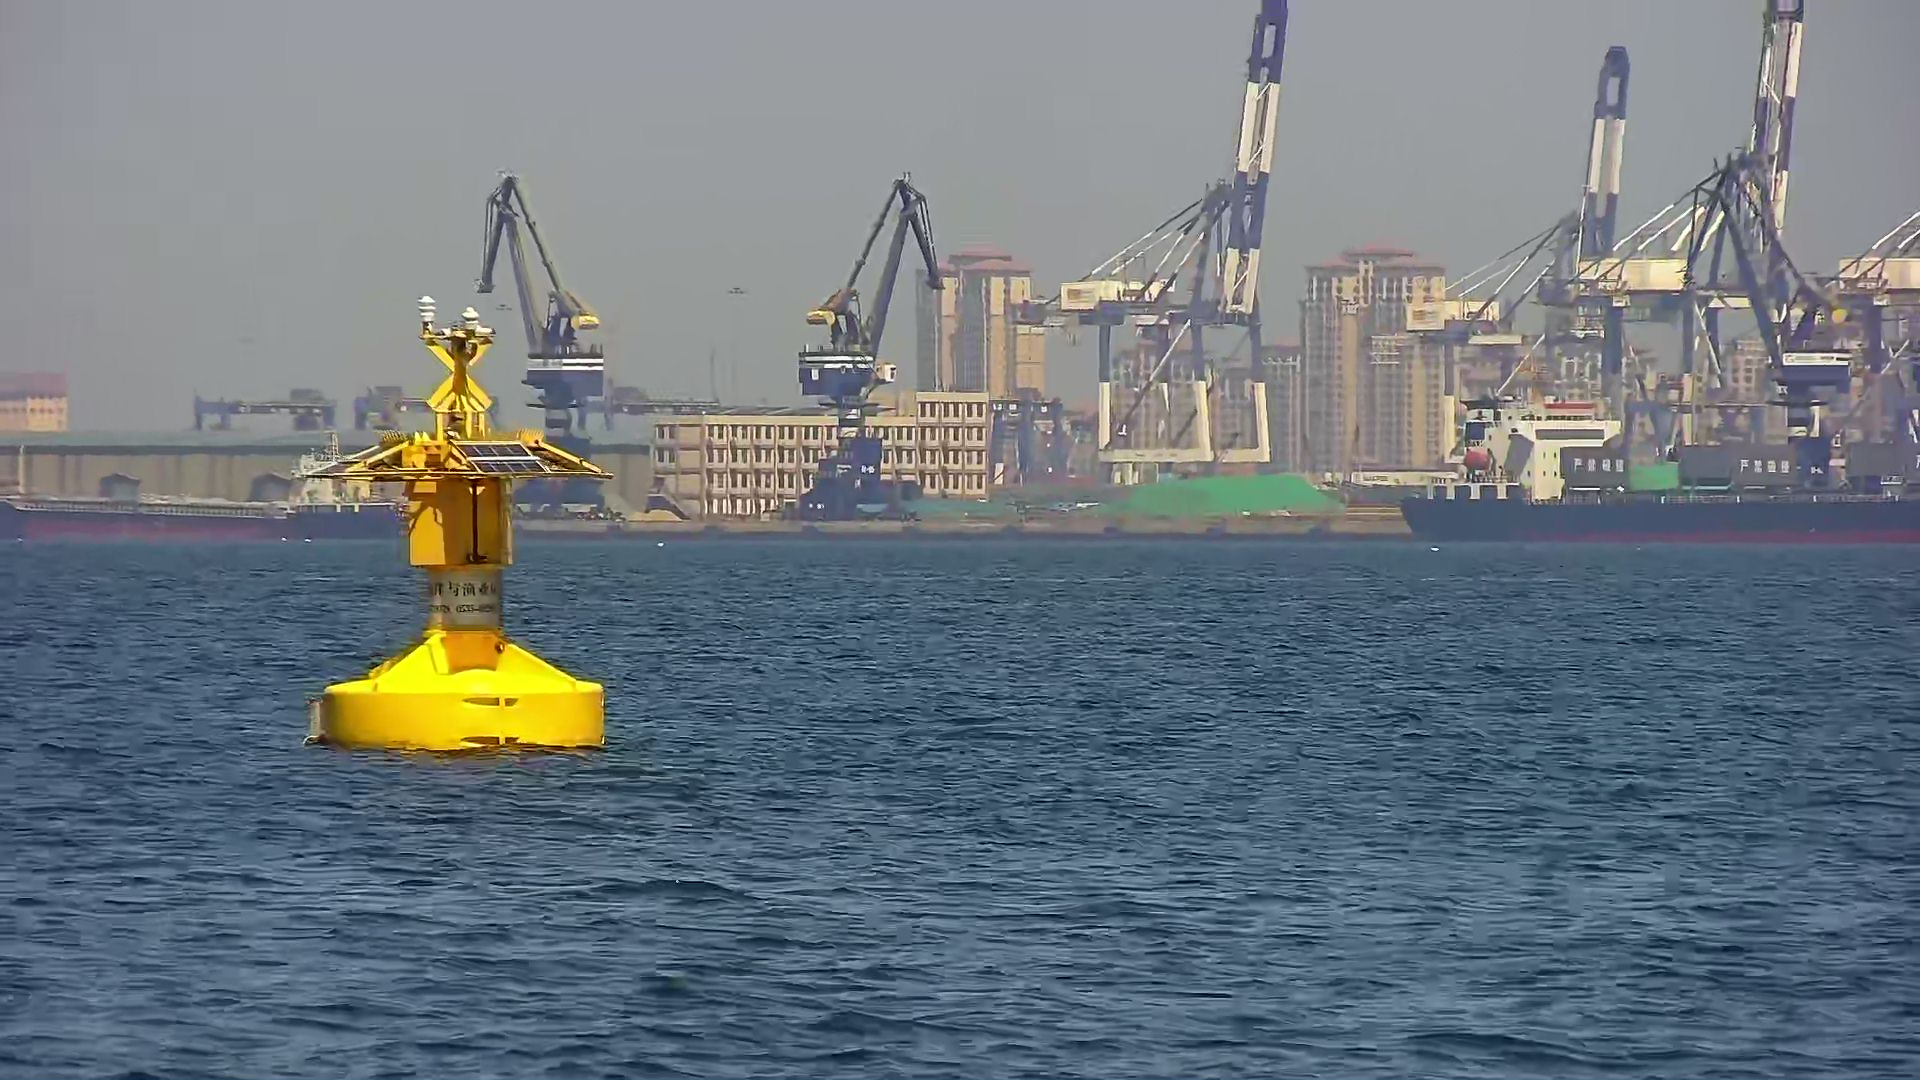buoy: (291, 297, 611, 749)
ship: (1402, 394, 1920, 537)
